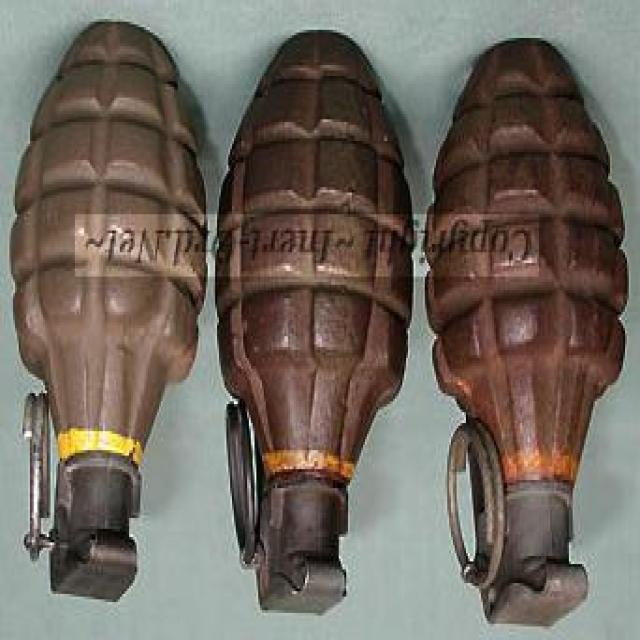grenade: (426, 41, 630, 630), (216, 31, 418, 620), (11, 22, 210, 606)
